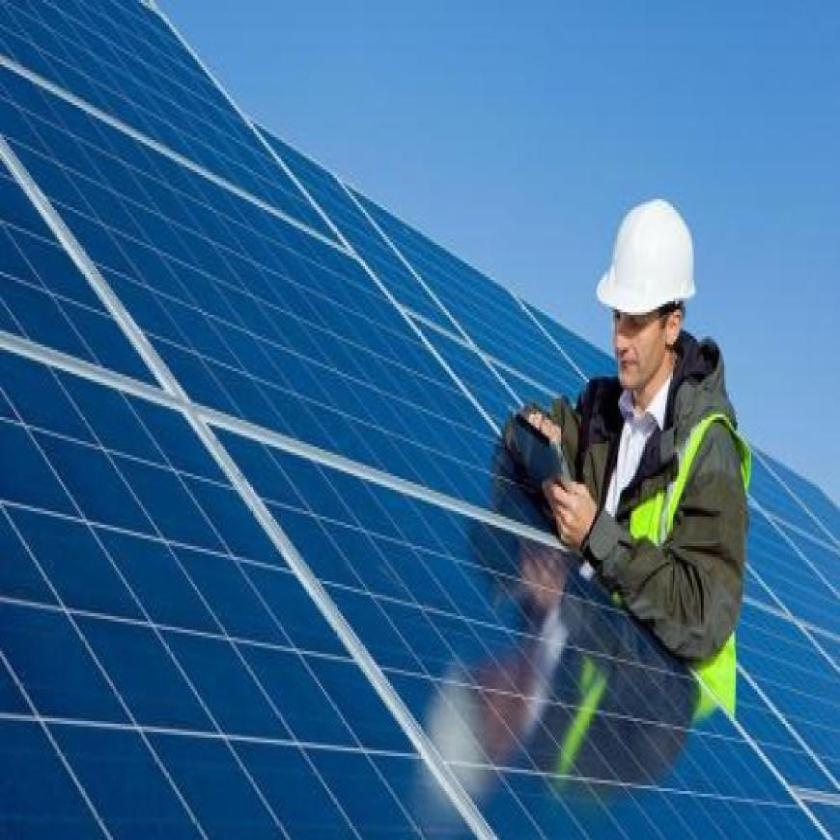Con_casco: (592, 190, 698, 378)
